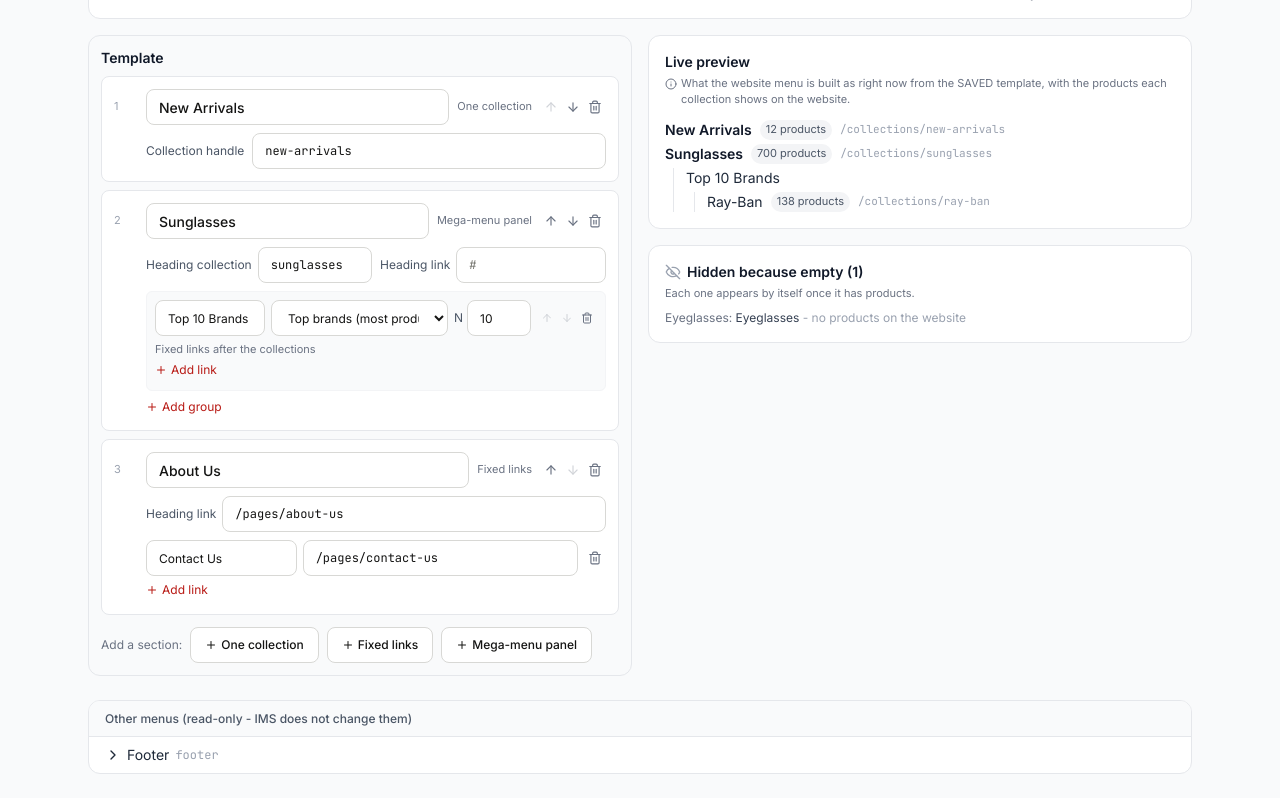
Scenario: Menus page: the self-maintaining menu › an other menu that cannot be read says so instead of spinning
(page scrolled)
Click the button "Footer footer" at (162, 755), box [105,745,219,765]
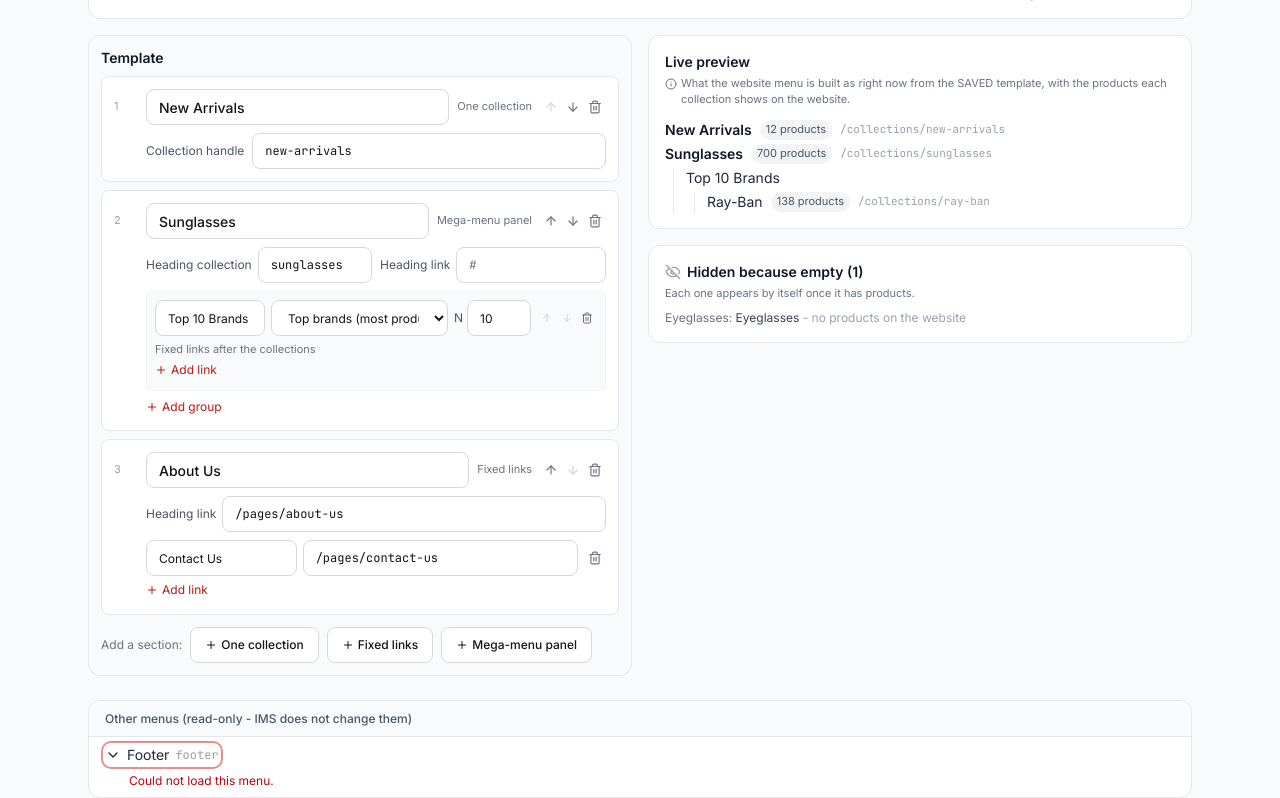
Expected: the text "Could not load this menu." is shown, [129,773,274,788]
